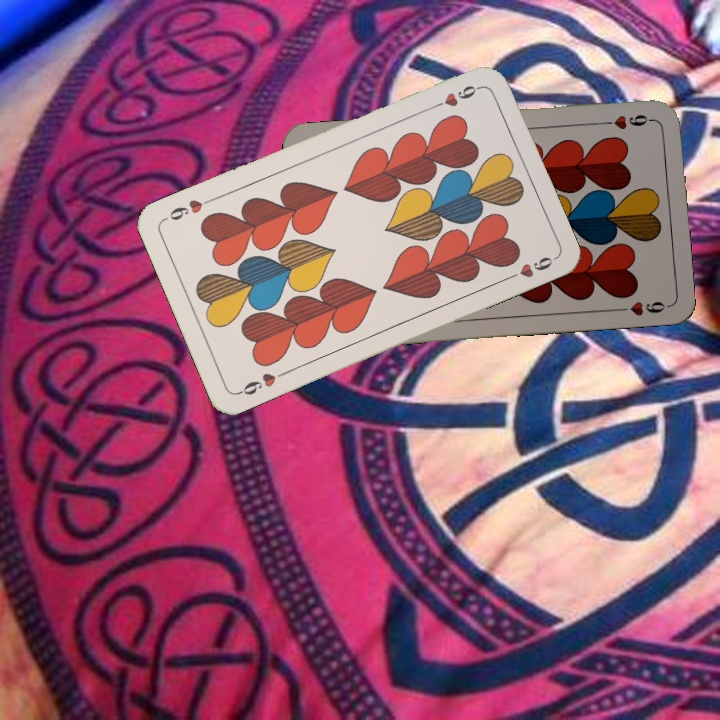H9: (234, 366, 290, 398), (427, 81, 484, 111), (596, 110, 656, 132)
